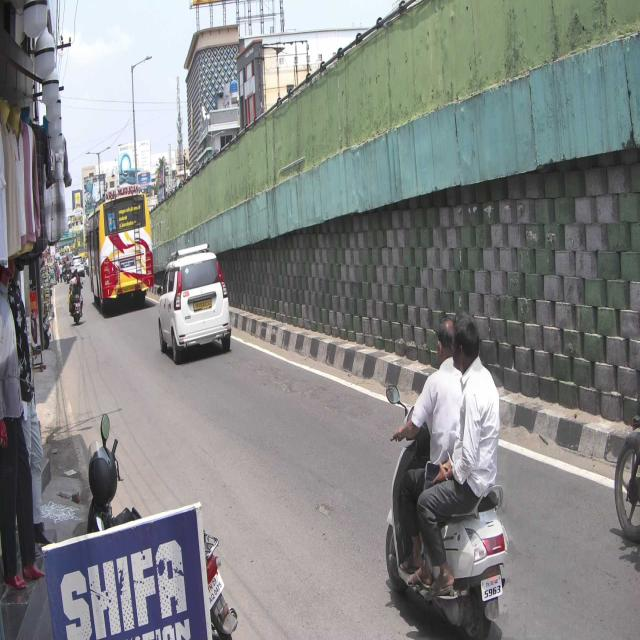double_rider: (386, 309, 510, 640)
